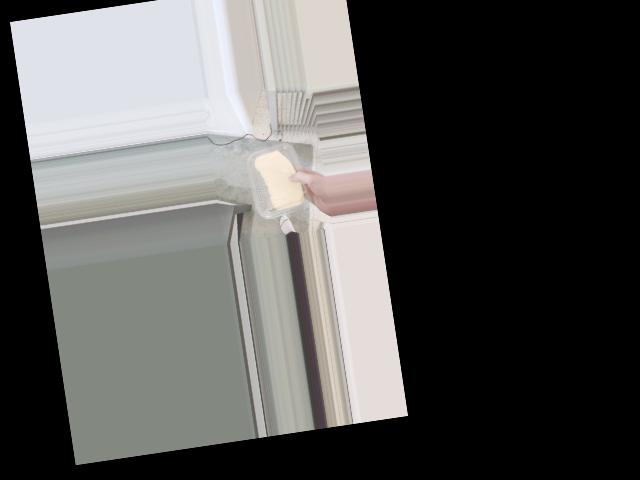cheese: (249, 142, 310, 219)
